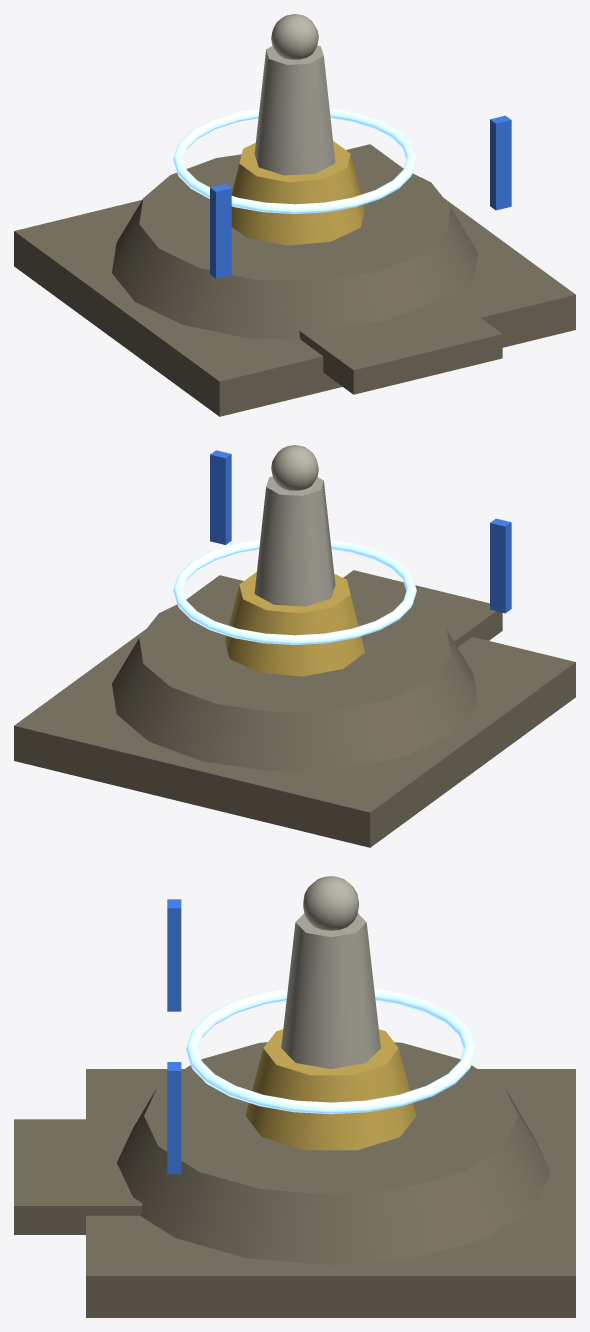
Rendered from altar_of_kings.glb.
The picture shows the model from 3 angles, top to bottom: view 1: azimuth 30°, elevation 25°; view 2: azimuth 150°, elevation 25°; view 3: azimuth 270°, elevation 25°; orthographic projection. The views are drawn at different scales.
Parts seen in each view (by area): view 1: altar-round-dais, altar-stone-footprint, altar-front-steps, altar-hero-statue-base, altar-hero-statue-body, altar-hero-summon-ring, altar-team-banner-right, altar-team-banner-left, altar-hero-statue-head; view 2: altar-round-dais, altar-stone-footprint, altar-hero-statue-base, altar-hero-statue-body, altar-hero-summon-ring, altar-front-steps, altar-team-banner-left, altar-team-banner-right, altar-hero-statue-head; view 3: altar-round-dais, altar-stone-footprint, altar-front-steps, altar-hero-statue-base, altar-hero-statue-body, altar-hero-summon-ring, altar-hero-statue-head, altar-team-banner-left, altar-team-banner-right.
Boxes of the visible parts, left/top/right/bottom form: altar-round-dais: left=112, top=154, right=477, bottom=339; altar-stone-footprint: left=14, top=144, right=575, bottom=416; altar-front-steps: left=299, top=294, right=502, bottom=394; altar-hero-statue-base: left=231, top=141, right=364, bottom=245; altar-hero-statue-body: left=254, top=45, right=335, bottom=175; altar-hero-summon-ring: left=173, top=108, right=416, bottom=213; altar-team-banner-right: left=490, top=115, right=511, bottom=210; altar-team-banner-left: left=210, top=184, right=231, bottom=278; altar-hero-statue-head: left=271, top=14, right=318, bottom=59; altar-round-dais: left=112, top=585, right=477, bottom=771; altar-stone-footprint: left=14, top=575, right=575, bottom=847; altar-hero-statue-base: left=225, top=572, right=364, bottom=676; altar-hero-statue-body: left=254, top=476, right=335, bottom=606; altar-hero-summon-ring: left=173, top=539, right=416, bottom=644; altar-front-steps: left=343, top=570, right=502, bottom=647; altar-team-banner-left: left=490, top=518, right=511, bottom=613; altar-team-banner-right: left=210, top=450, right=231, bottom=544; altar-hero-statue-head: left=271, top=445, right=318, bottom=490; altar-round-dais: left=117, top=1042, right=550, bottom=1265; altar-stone-footprint: left=86, top=1069, right=575, bottom=1317; altar-front-steps: left=14, top=1119, right=142, bottom=1234; altar-hero-statue-base: left=245, top=1029, right=416, bottom=1150; altar-hero-statue-body: left=281, top=913, right=380, bottom=1068; altar-hero-summon-ring: left=186, top=988, right=476, bottom=1114; altar-hero-statue-head: left=303, top=876, right=358, bottom=930; altar-team-banner-left: left=167, top=899, right=181, bottom=1011; altar-team-banner-right: left=167, top=1062, right=181, bottom=1174.
Size of the model in its own units: 2.75 by 2.08 by 3.16.
